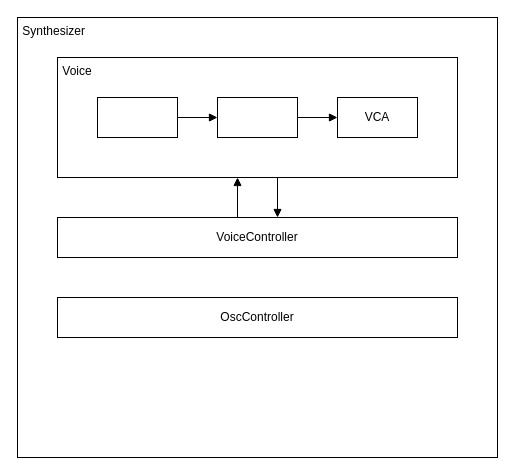
Image size: 515x475. Some labels were removed from this diagram. The centre of each missing label's shape, as x and y in pixels:
VCF: point 257,117
VCO: point 137,117
